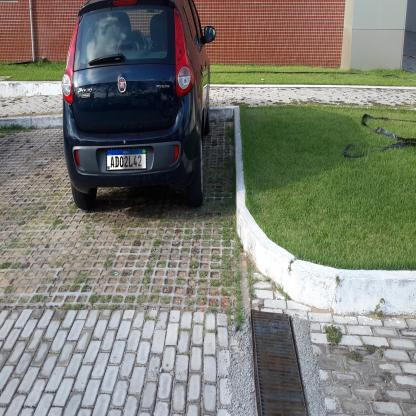PlacaM: (106, 148, 147, 171)
